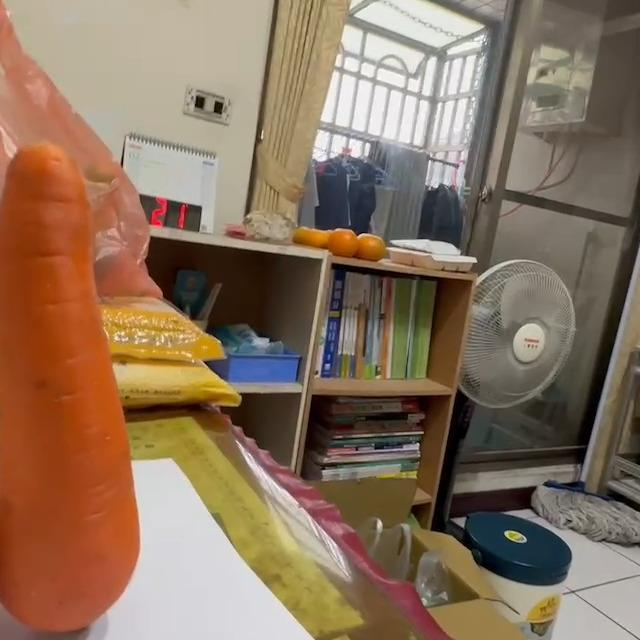carrot: (1, 139, 143, 637)
